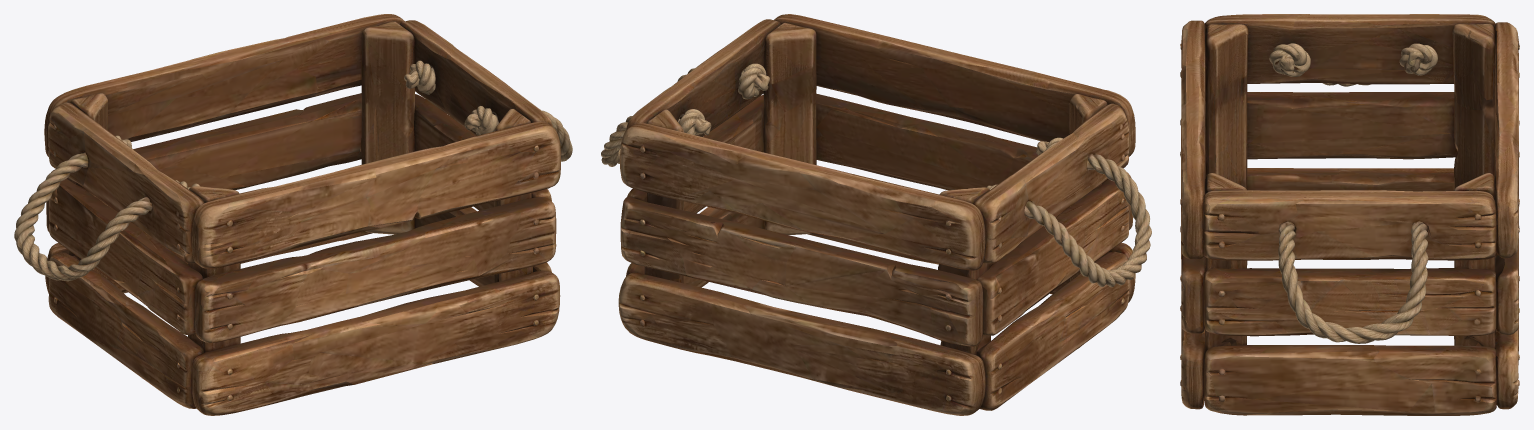
Rendered from crate.glb.
The picture shows the model from 3 angles, left to right: view 1: azimuth 30°, elevation 25°; view 2: azimuth 150°, elevation 25°; view 3: azimuth 270°, elevation 25°; orthographic projection. The views are drawn at different scales.
Parts seen in each view (by area): view 1: Mesh_0; view 2: Mesh_0; view 3: Mesh_0.
Boxes of the visible parts, x1=… form: Mesh_0: x1=14, y1=14, x2=572, y2=415; Mesh_0: x1=601, y1=14, x2=1151, y2=415; Mesh_0: x1=1180, y1=14, x2=1519, y2=415.
Bounding box in the file's own units: 1.9 × 0.7402 × 1.04.
1 material, 1 textured.
